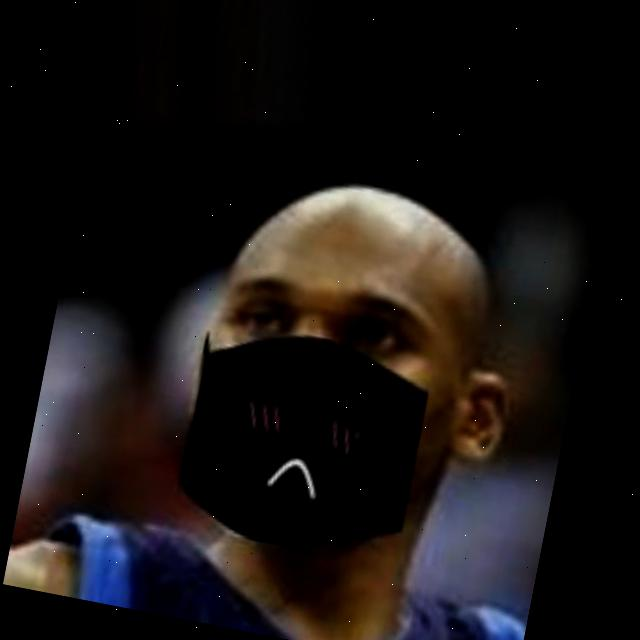suspicion: (135, 130, 549, 580)
